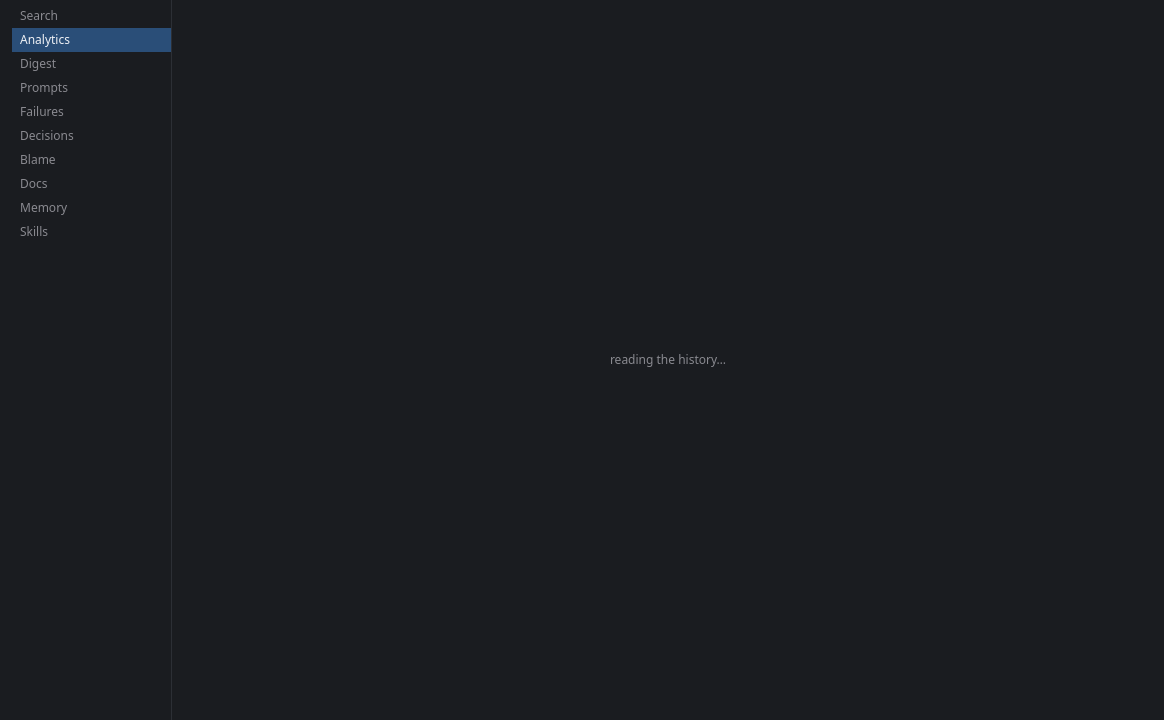
Test: the similar list › says when the index is older than the corpus
Click the button "Search". click: (92, 16)
box: [12, 4, 171, 28]
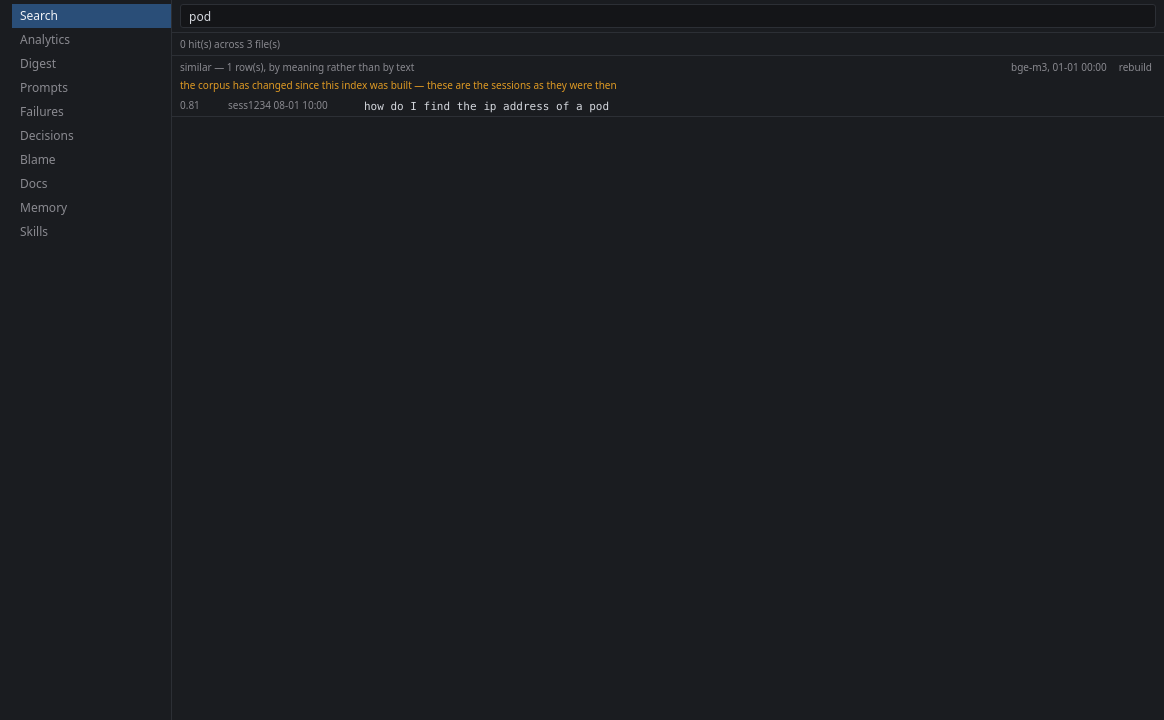
expect the text "corpus has changed since this index was built" is shown: met, box [180, 78, 617, 92]
